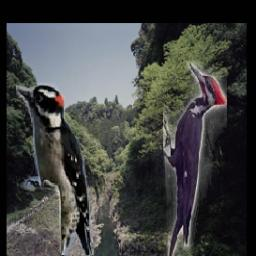Woodpecker: (15, 84, 93, 256), (163, 62, 227, 256)
